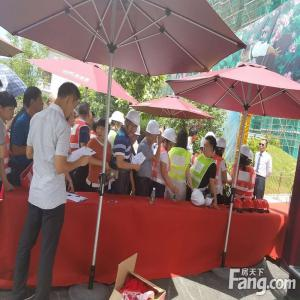none: (56, 80, 81, 118), (23, 86, 45, 118), (2, 90, 19, 122), (95, 118, 111, 142), (203, 136, 217, 158), (79, 101, 93, 123), (176, 128, 189, 150), (259, 139, 269, 155), (189, 126, 199, 142)
white: (124, 110, 140, 138), (146, 120, 161, 146), (112, 110, 126, 134), (163, 128, 177, 152), (216, 138, 228, 159), (239, 146, 250, 164)
